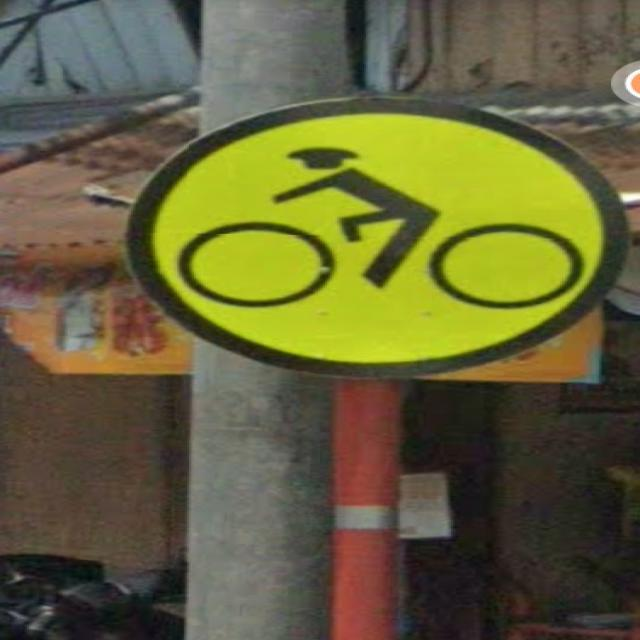bike lane: (126, 98, 626, 375)
